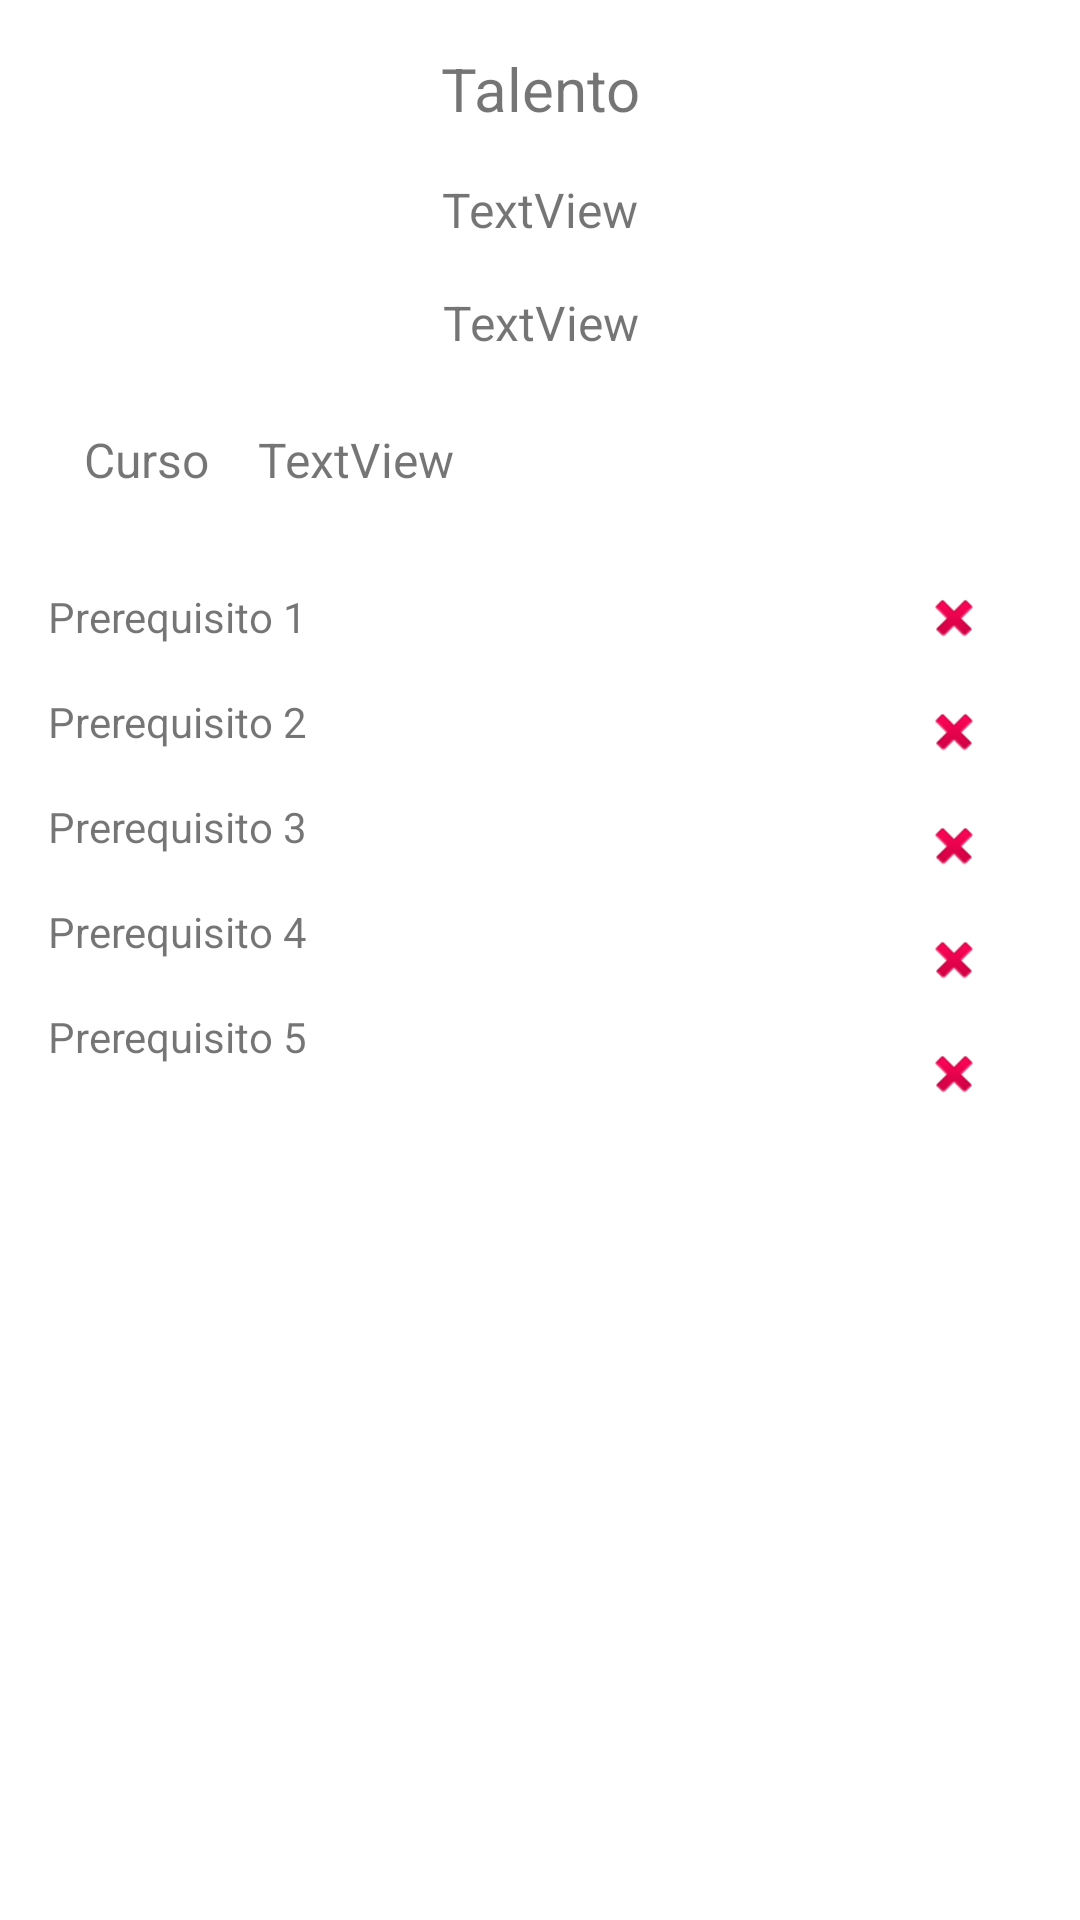

Icon bounding boxes for this 1080×1920 phone screenshot, format [x1=x1, y1=y1, x2=x2, y2=y2]:
delete: [x1=935, y1=600, x2=973, y2=637], [x1=935, y1=714, x2=973, y2=751], [x1=935, y1=828, x2=973, y2=865], [x1=935, y1=942, x2=973, y2=979], [x1=935, y1=1056, x2=973, y2=1093]
